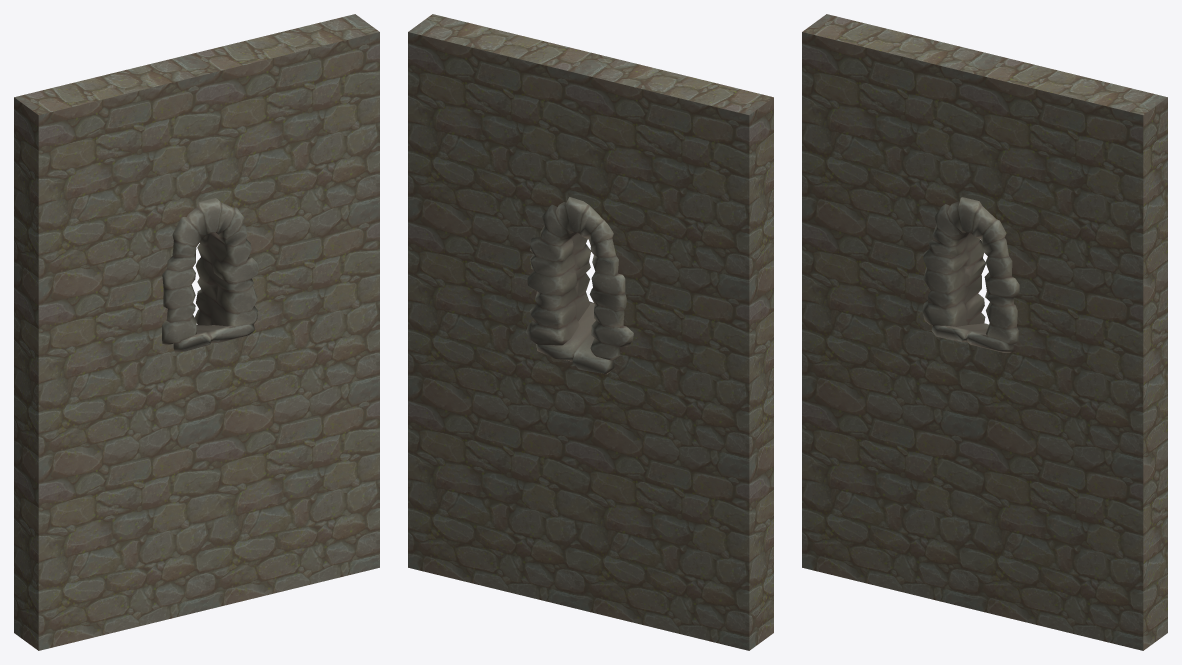
File: SM_FW01_Ruins_Int_Window_A_4x6_01.fbx
3 renders of one model, left to right at view 1: azimuth 30°, elevation 25°; view 2: azimuth 150°, elevation 25°; view 3: azimuth 330°, elevation 25°, orthographic.
Parts seen in each view (by area): view 1: SM_FW01_Ruins_Int_Window_A_4x6_01, SM_FW01_Ruins_Int_Window_A_4x6_01_LOD0; view 2: SM_FW01_Ruins_Int_Window_A_4x6_01, SM_FW01_Ruins_Int_Window_A_4x6_01_LOD0; view 3: SM_FW01_Ruins_Int_Window_A_4x6_01, SM_FW01_Ruins_Int_Window_A_4x6_01_LOD0.
Boxes of the visible parts, bbox=[...] form: SM_FW01_Ruins_Int_Window_A_4x6_01: bbox=[14, 14, 379, 650]; SM_FW01_Ruins_Int_Window_A_4x6_01_LOD0: bbox=[161, 198, 258, 352]; SM_FW01_Ruins_Int_Window_A_4x6_01: bbox=[408, 14, 773, 650]; SM_FW01_Ruins_Int_Window_A_4x6_01_LOD0: bbox=[525, 197, 633, 374]; SM_FW01_Ruins_Int_Window_A_4x6_01: bbox=[802, 14, 1167, 650]; SM_FW01_Ruins_Int_Window_A_4x6_01_LOD0: bbox=[922, 197, 1019, 352].
Size of what is drawn, in the model's own units: 4 by 6 by 0.7647.
